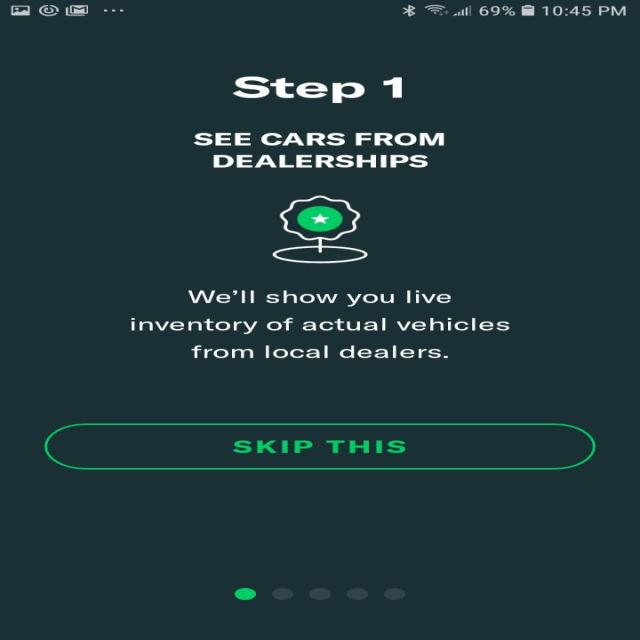Image: (271, 195, 368, 263)
Text: (130, 290, 510, 358), (193, 132, 444, 168), (232, 76, 402, 103)
TextButton: (43, 423, 596, 470)
